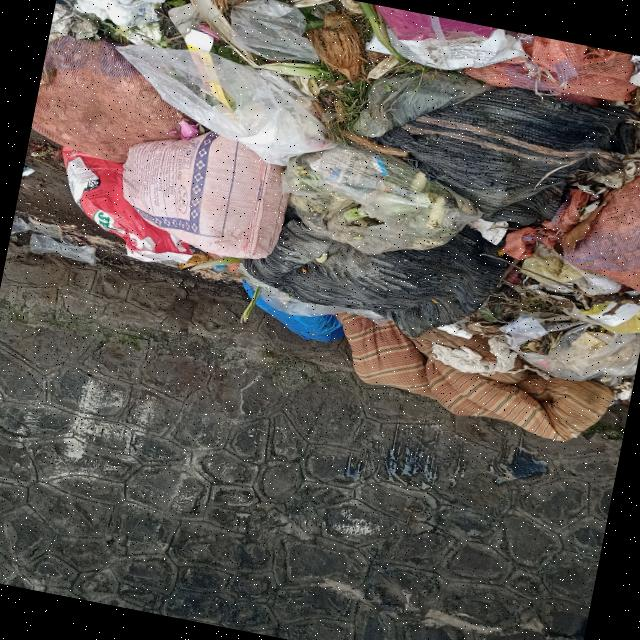garbage: (4, 0, 640, 453)
